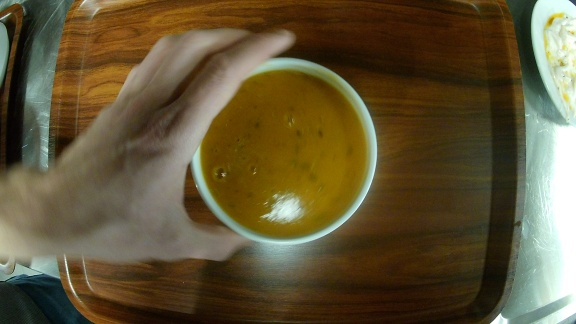ezogelin: (186, 54, 383, 245)
